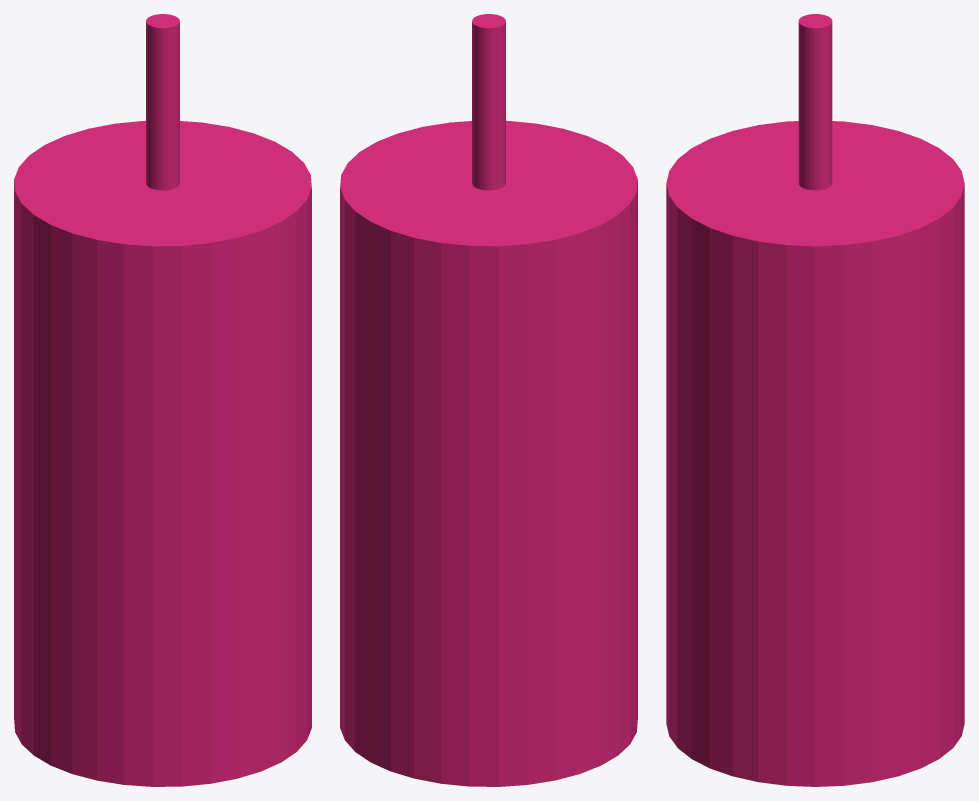
The picture shows the model from 3 angles, left to right: view 1: azimuth 30°, elevation 25°; view 2: azimuth 150°, elevation 25°; view 3: azimuth 270°, elevation 25°; orthographic projection.
Visible parts, largest first — view 1: Cylinder.002; view 2: Cylinder.002; view 3: Cylinder.002.
Boxes of the visible parts, <box> form: Cylinder.002: <box>14,14,311,786</box>; Cylinder.002: <box>340,14,637,786</box>; Cylinder.002: <box>666,14,964,786</box>.
Bounding box in the file's own units: 0.5 × 0.5 × 1.3.
